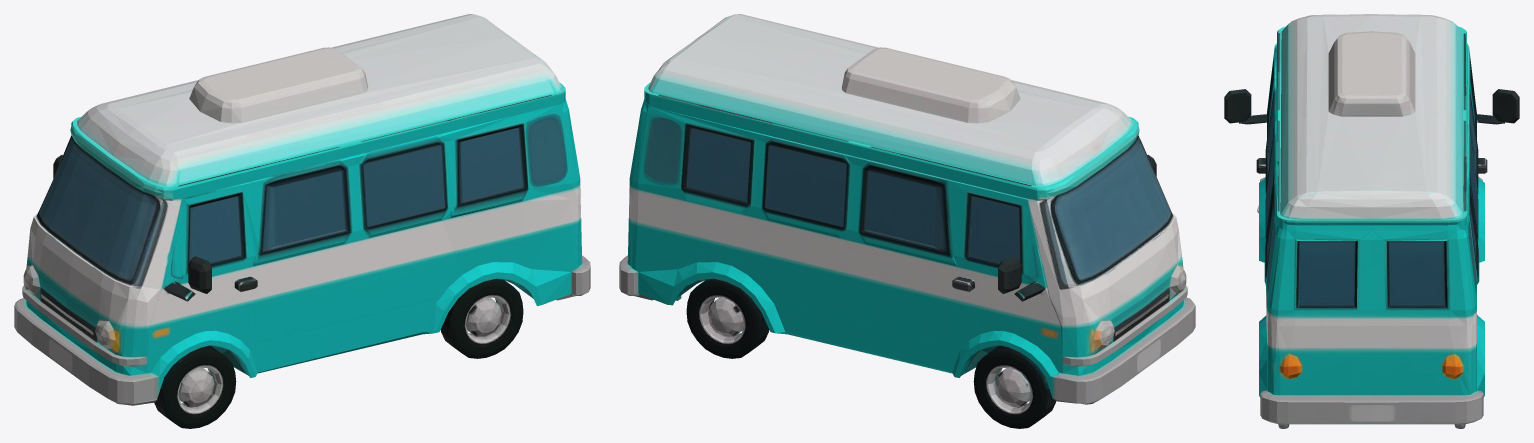
File: bus1.glb
3 renders of one model, left to right at view 1: azimuth 30°, elevation 25°; view 2: azimuth 150°, elevation 25°; view 3: azimuth 270°, elevation 25°, orthographic. The views are drawn at different scales.
Parts seen in each view (by area): view 1: mesh_node; view 2: mesh_node; view 3: mesh_node.
Boxes of the visible parts, box(x1,y1,x2,y2) form: mesh_node: box(14, 14, 590, 428); mesh_node: box(619, 14, 1195, 428); mesh_node: box(1224, 14, 1519, 428).
Bounding box in the file's own units: 1.9 × 1.06 × 1.03.
1 material, 1 textured.
